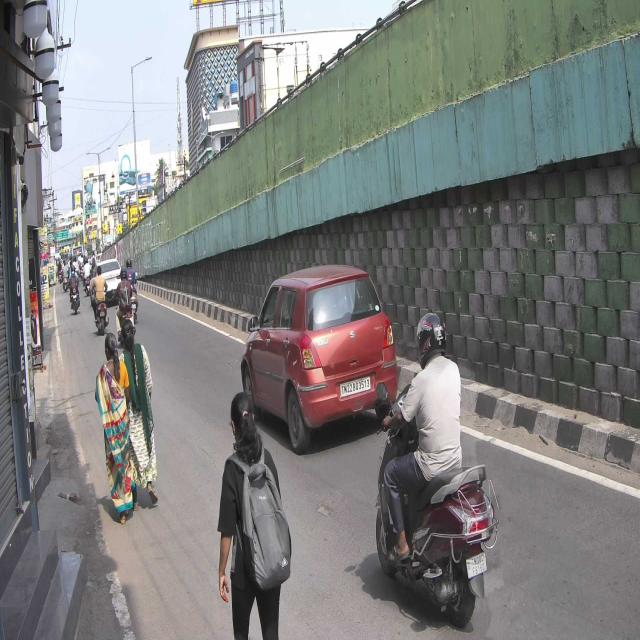single_rider: (373, 311, 499, 625)
